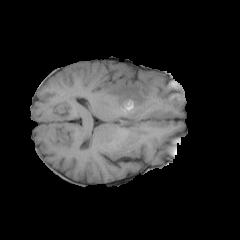glioma: (105, 68, 148, 113)
